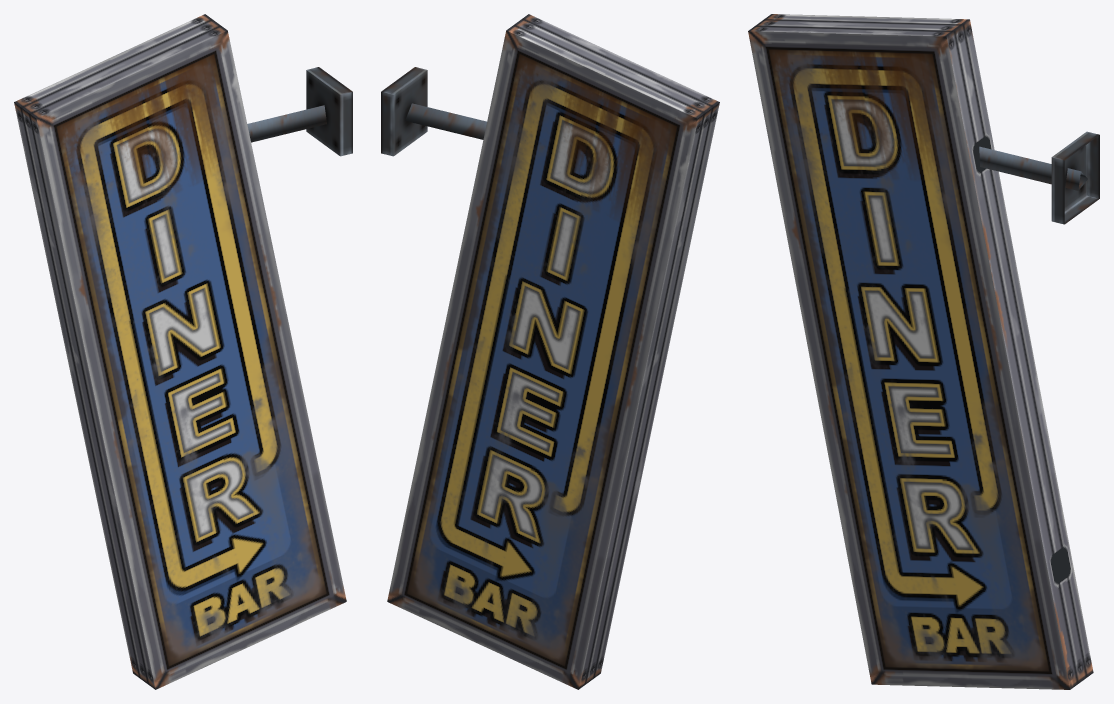
File: signage01_V_B.fbx
3 views of the same model, side by side, from view 1: azimuth 30°, elevation 25°; view 2: azimuth 150°, elevation 25°; view 3: azimuth 330°, elevation 25° (orthographic). The views are drawn at different scales.
Parts seen in each view (by area): view 1: signage01_V_B; view 2: signage01_V_B; view 3: signage01_V_B.
Boxes of the visible parts, box(x1,y1,x2,y2) form: signage01_V_B: box(14, 14, 352, 689); signage01_V_B: box(381, 14, 719, 689); signage01_V_B: box(748, 14, 1099, 689).
Size of the model in its own units: 159 by 314 by 30.15.
